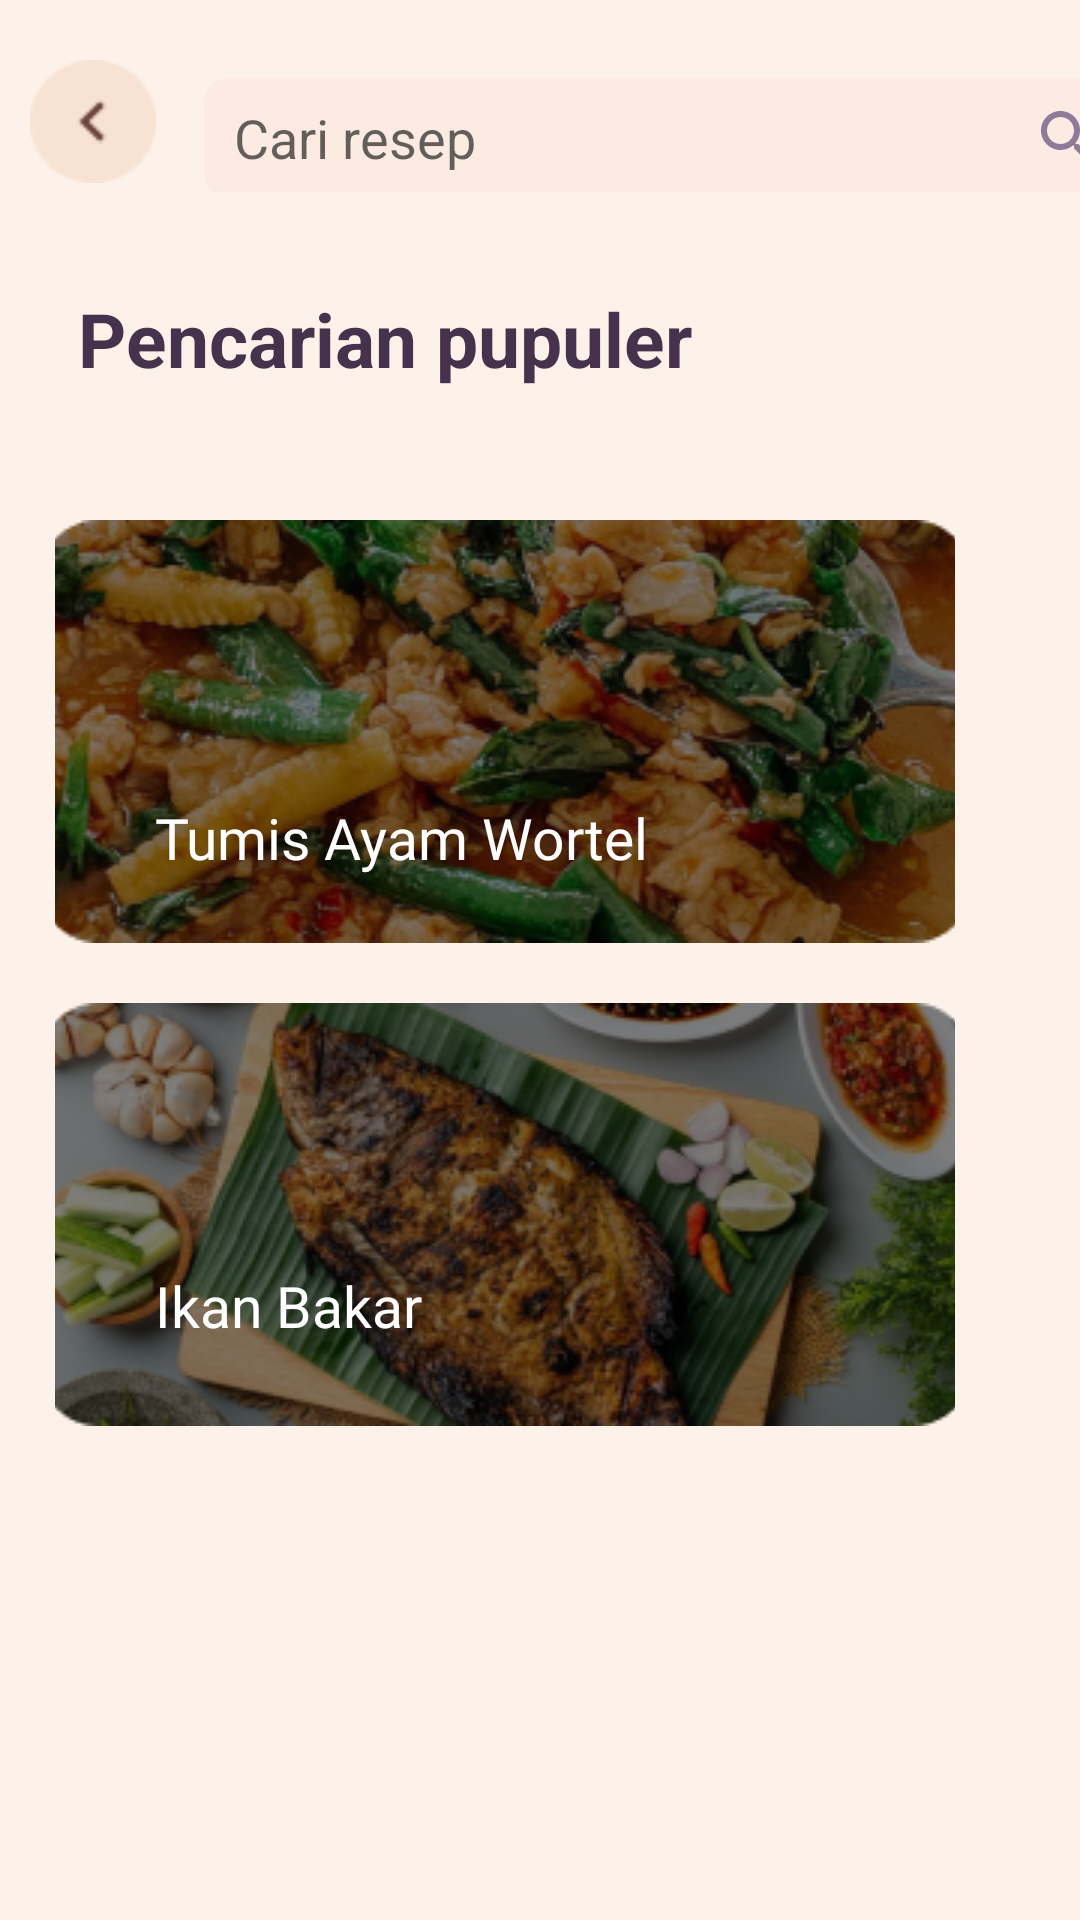

Icon bounding boxes for this 1080px x 1920px phone screenshot, format bbox(x1, y1, x2, y2):
back: bbox(76, 99, 107, 144)
